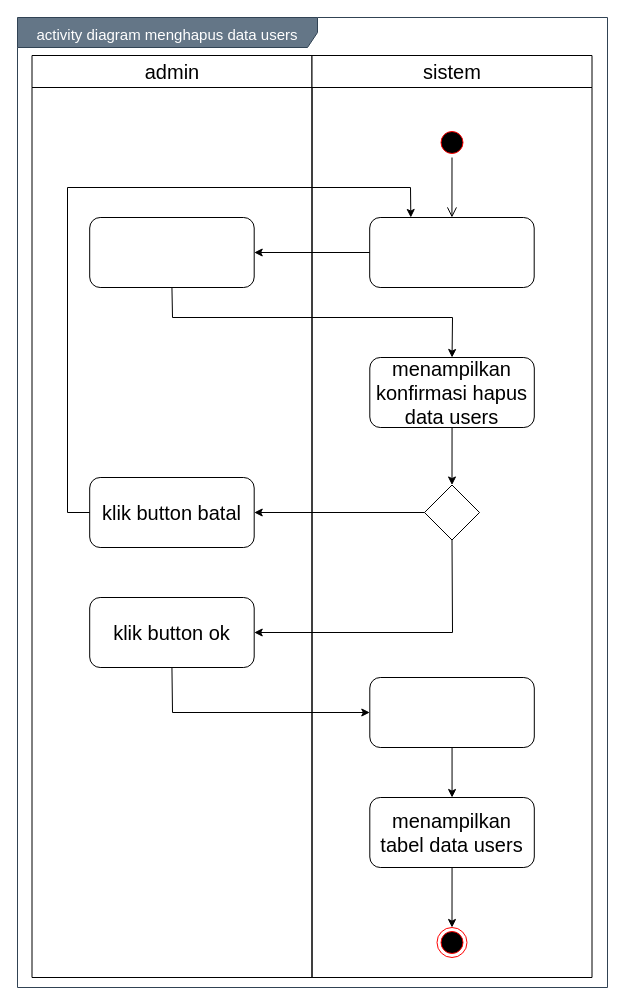
Some shapes in this 625 by 1005 pixel diagram are drawn without their labels. Here are the shapes that lost their labels. From the top down, the centre of each, then its label:
At (171,252): "klik button hapus".
At (451,252): "menampilkan data users".
At (451,712): "menghapus data users".
